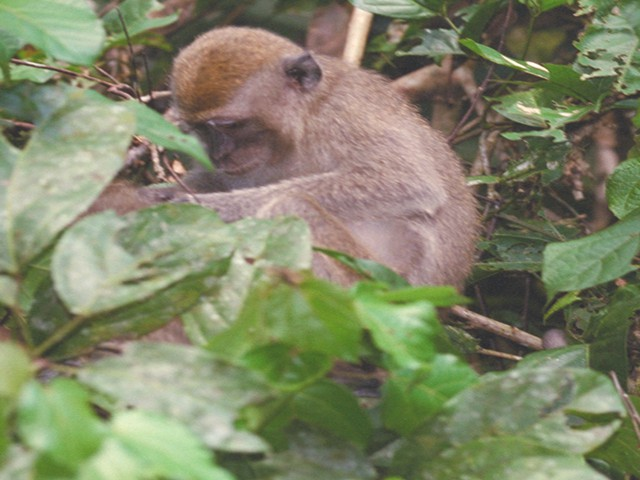Monkey: (168, 24, 483, 295)
